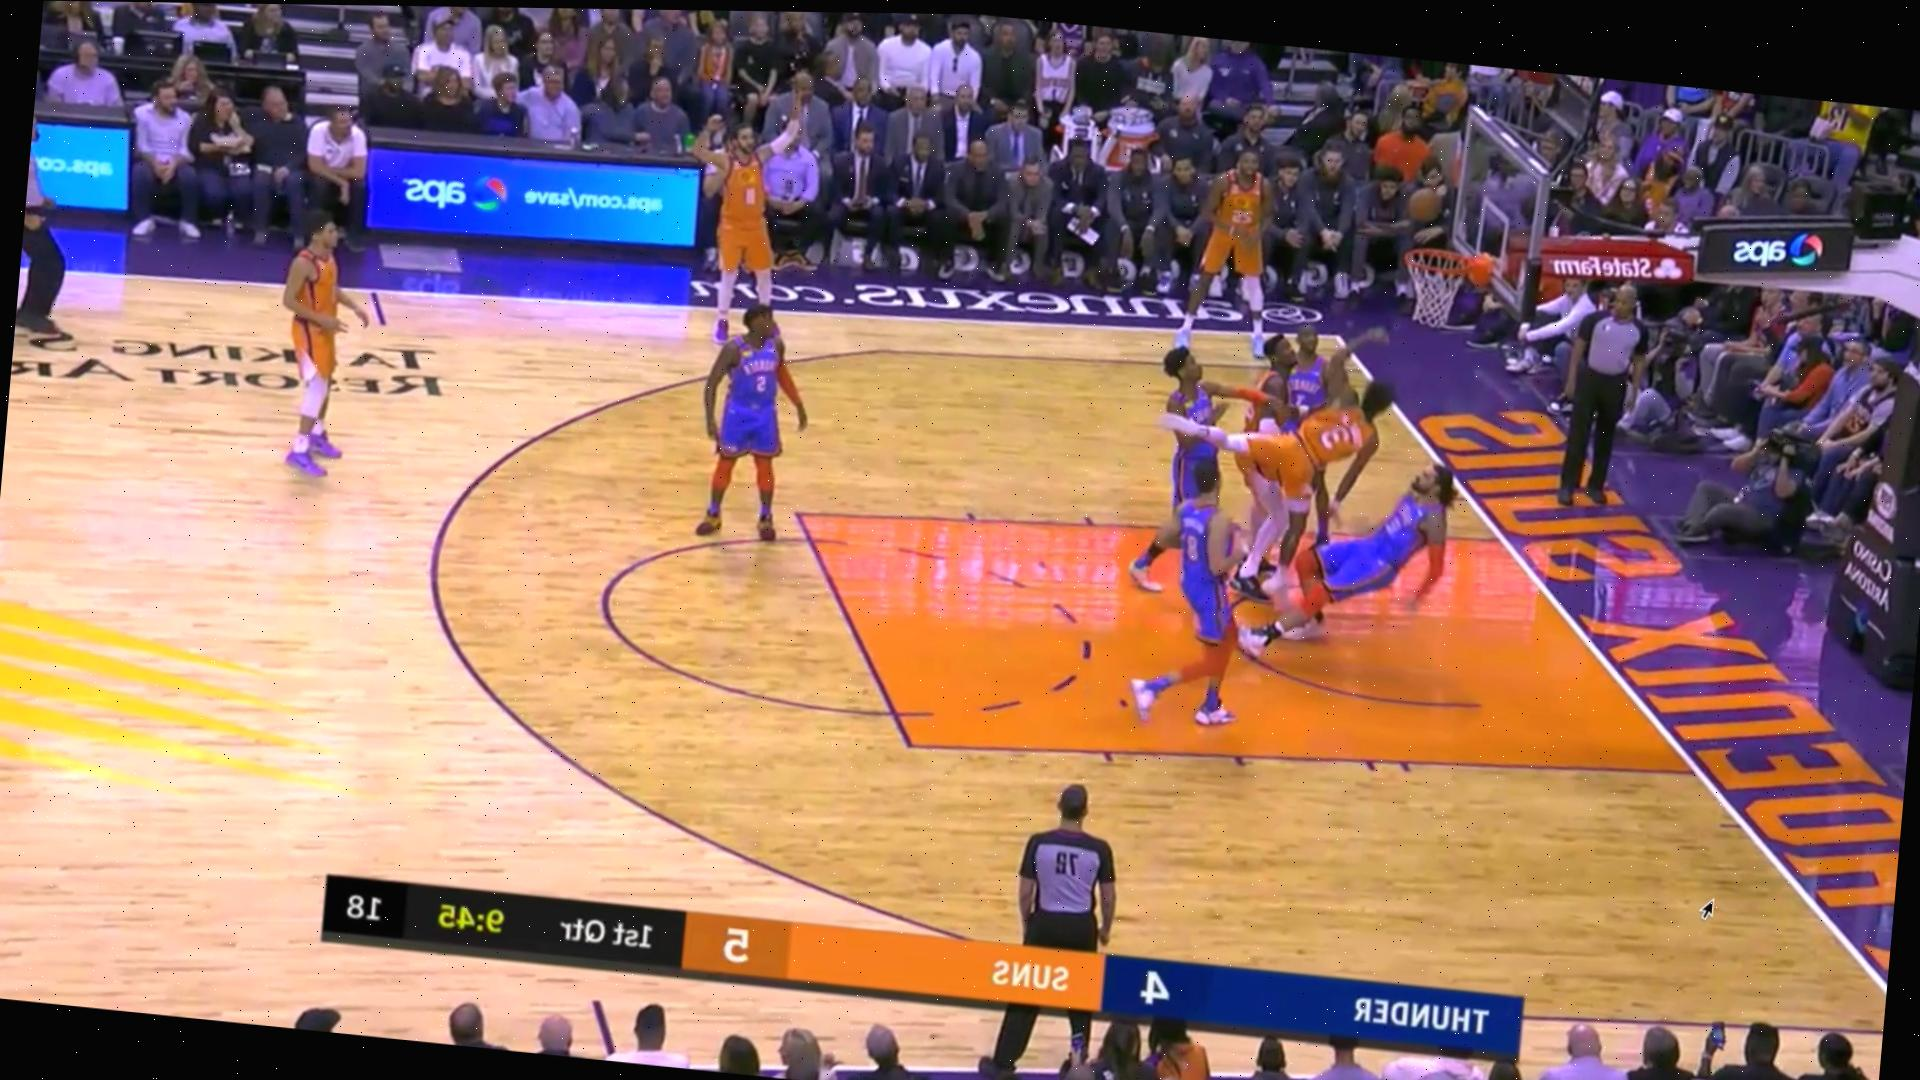foul: (1240, 360, 1478, 653)
